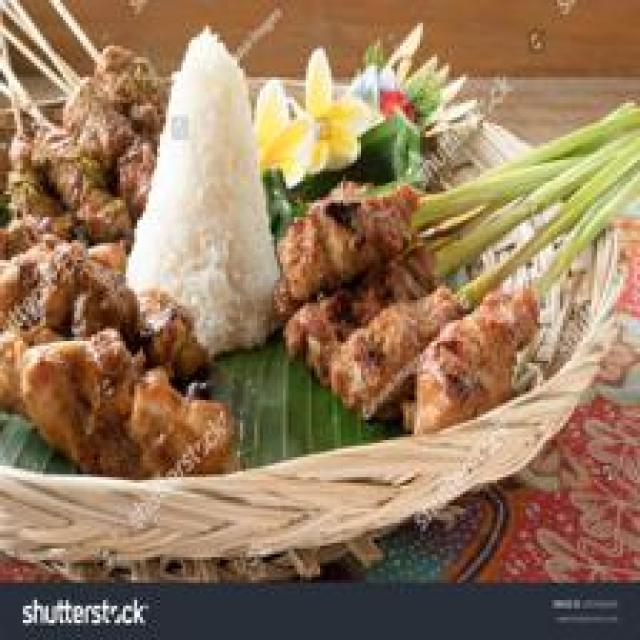Wet Waste: (127, 19, 296, 351)
